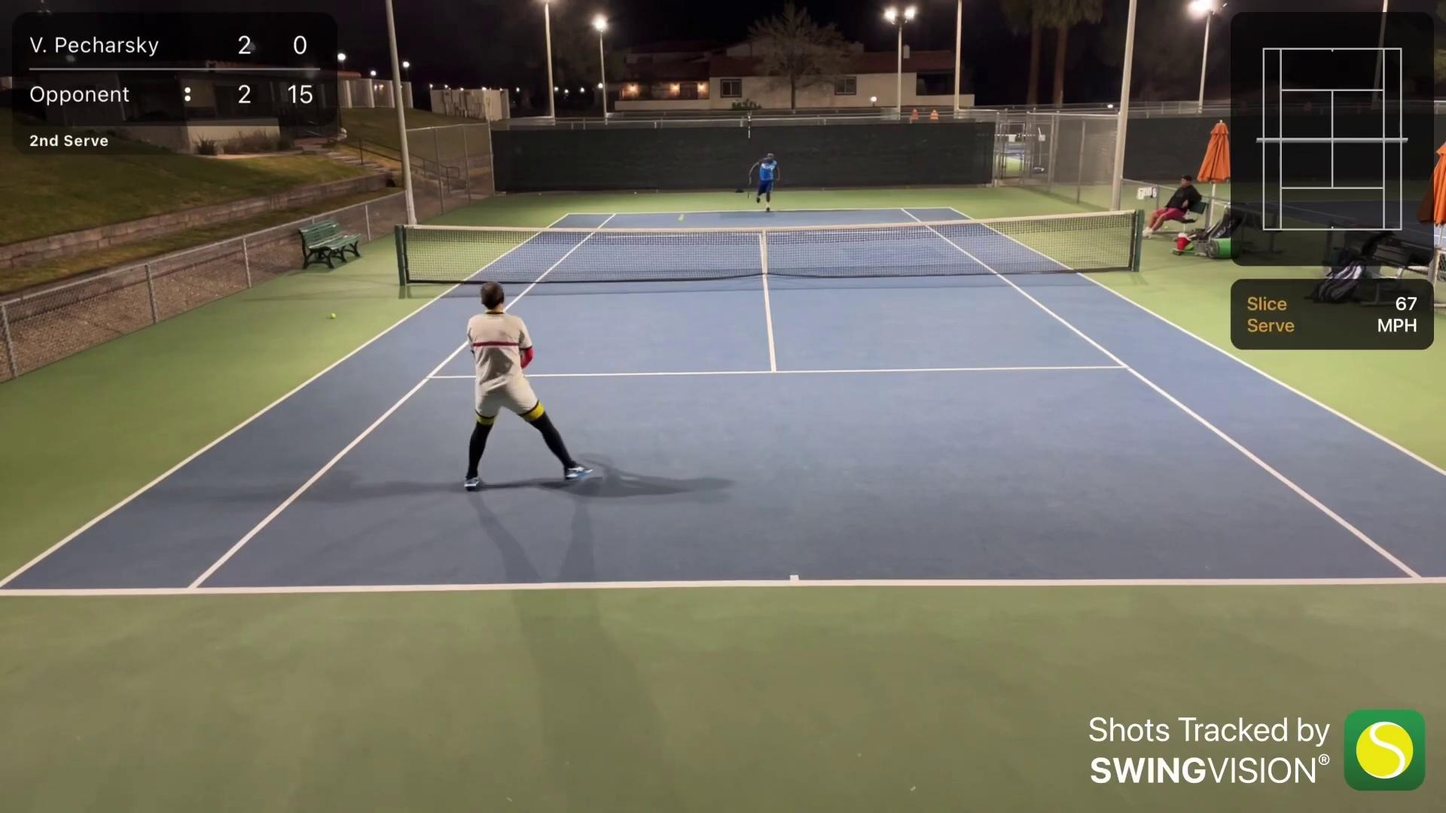ball: (328, 312, 338, 318), (678, 215, 683, 220)
